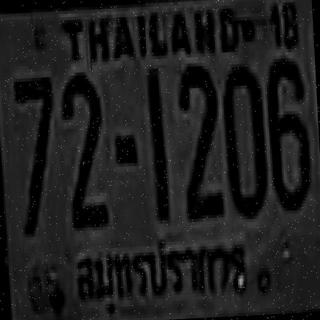N00: (220, 62, 266, 216)
N01: (146, 70, 168, 220)
N02: (61, 72, 108, 228), (176, 64, 223, 218)
N06: (264, 54, 310, 208)
N07: (11, 74, 58, 234)
P57: (73, 235, 256, 313)
